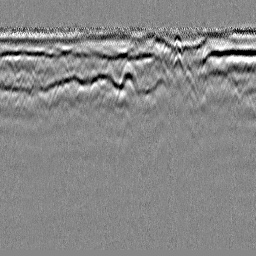cavity: (112, 60, 143, 112)
